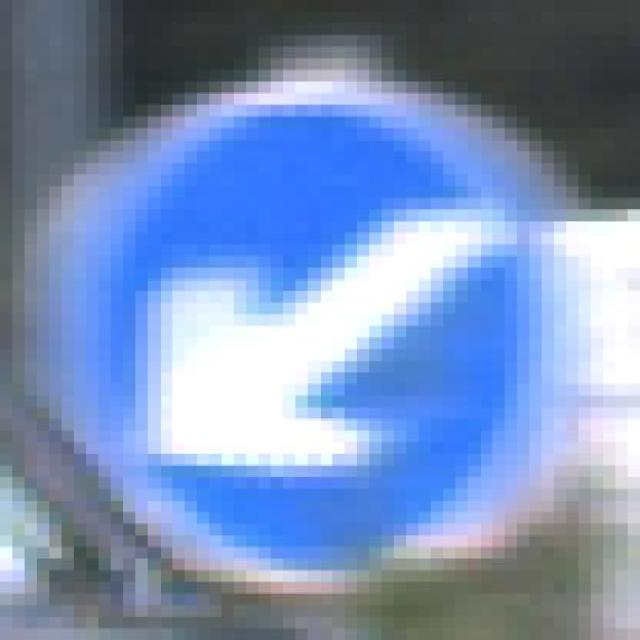Keep-Left: (62, 58, 529, 594)
